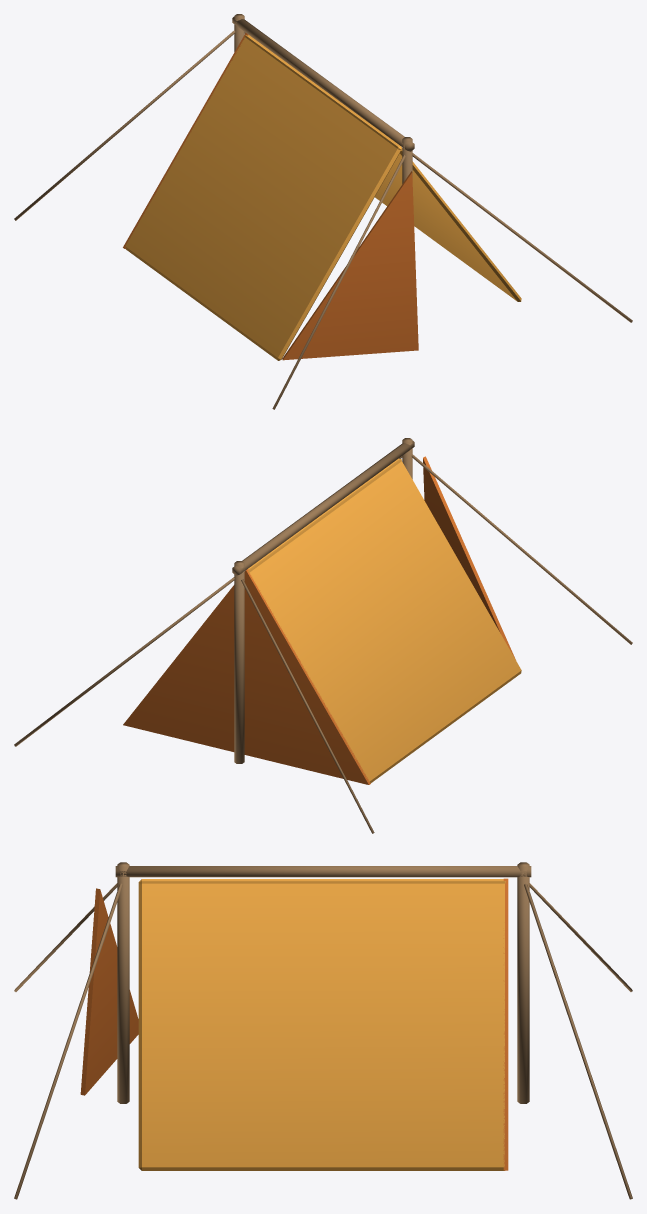
Rendered from tent.glb.
The picture shows the model from 3 angles, top to bottom: view 1: azimuth 30°, elevation 25°; view 2: azimuth 150°, elevation 25°; view 3: azimuth 270°, elevation 25°; orthographic projection. The views are drawn at different scales.
Parts seen in each view (by area): view 1: Tent_Canvas, Tent_Flaps, Tent_Poles; view 2: Tent_Canvas, Tent_Flaps, Tent_Poles; view 3: Tent_Canvas, Tent_Poles, Tent_Flaps.
Part boxes in pixels (box(x1,y1,x2,y2)): Tent_Canvas: box(125, 35, 521, 360); Tent_Flaps: box(123, 33, 418, 360); Tent_Poles: box(14, 14, 632, 409); Tent_Canvas: box(248, 458, 521, 782); Tent_Flaps: box(123, 456, 515, 784); Tent_Poles: box(14, 438, 632, 833); Tent_Canvas: box(138, 879, 505, 1170); Tent_Poles: box(14, 862, 632, 1199); Tent_Flaps: box(80, 878, 508, 1170).
Bounding box in the file's own units: 3.21 × 1.7 × 4.02.
